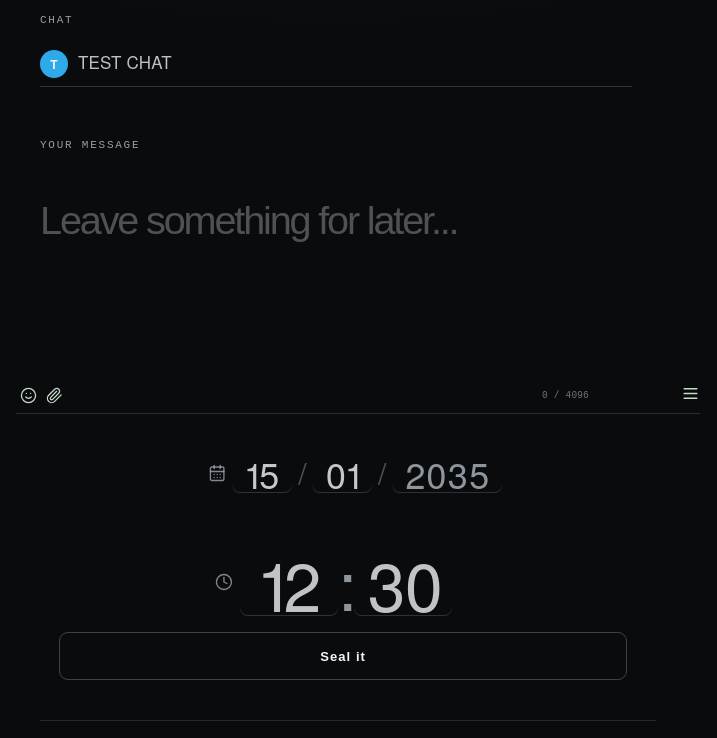
Test case: SchedulePage production composer › disables the reminder option when Saved Messages is unavailable
The width and height of the screenshot is (717, 738).
Click the button with class "message-send-button". click: (690, 393)
box: [680,383,700,403]
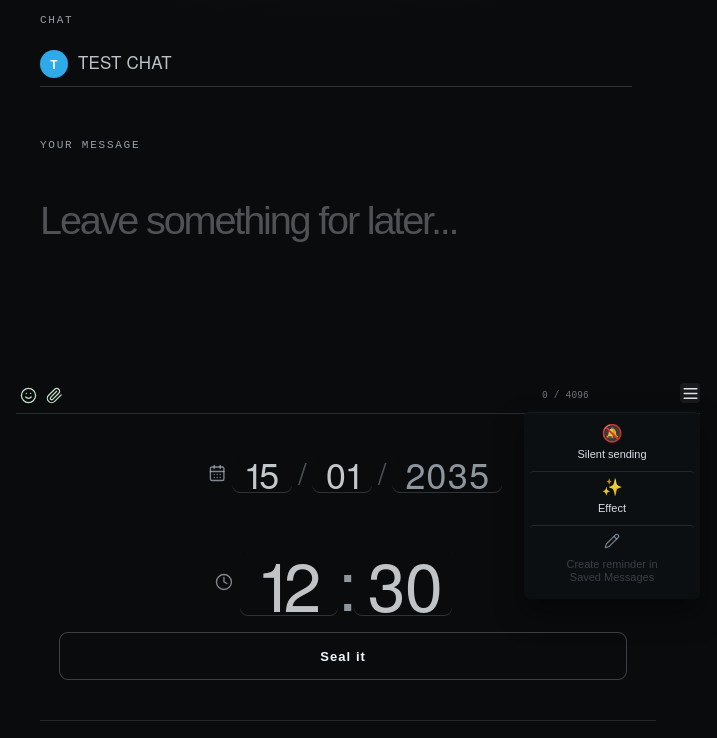
Expected: the menu item "Create reminder in Saved Messages" is disabled, [530,525,694,593]
